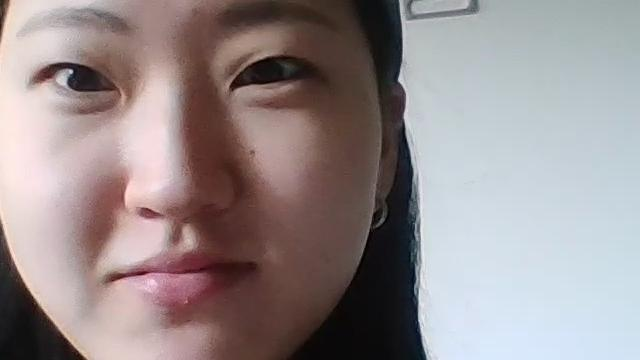eye: (68, 65, 102, 94), (248, 57, 281, 86)
iris: (234, 57, 307, 86), (51, 64, 121, 92)
